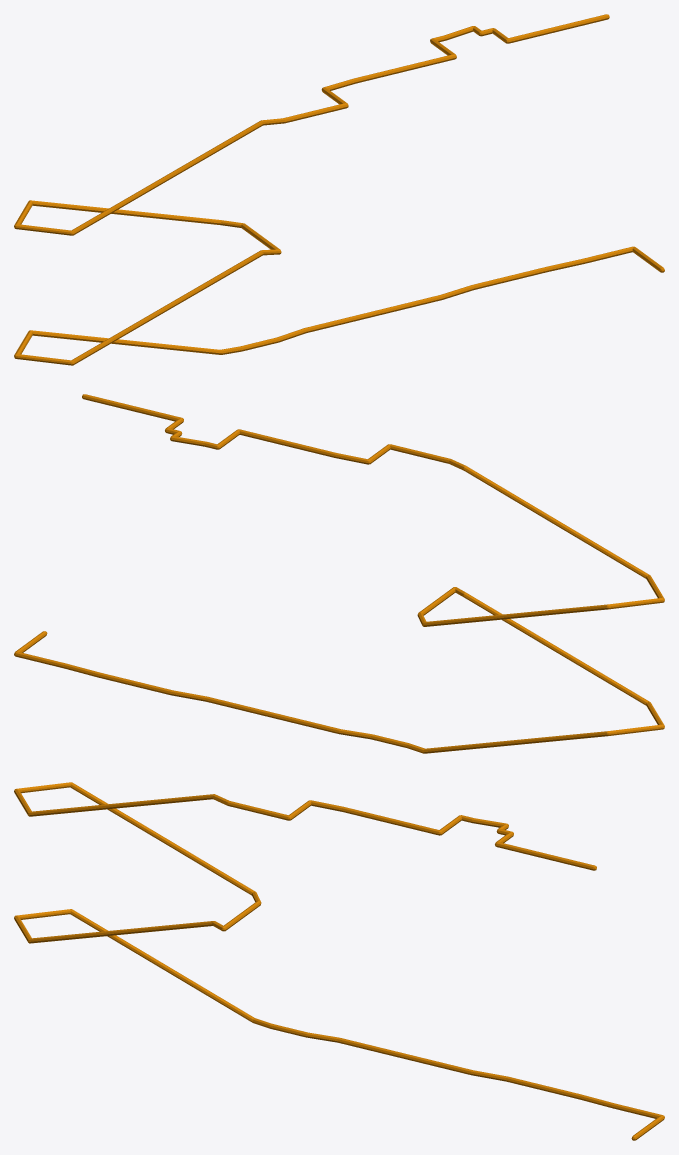
3 renders of one model, top to bottom at view 1: azimuth 30°, elevation 25°; view 2: azimuth 150°, elevation 25°; view 3: azimuth 330°, elevation 25°, orthographic. The views are drawn at different scales.
Bounding box in the file's own units: 2595 × 1020 × 355.
